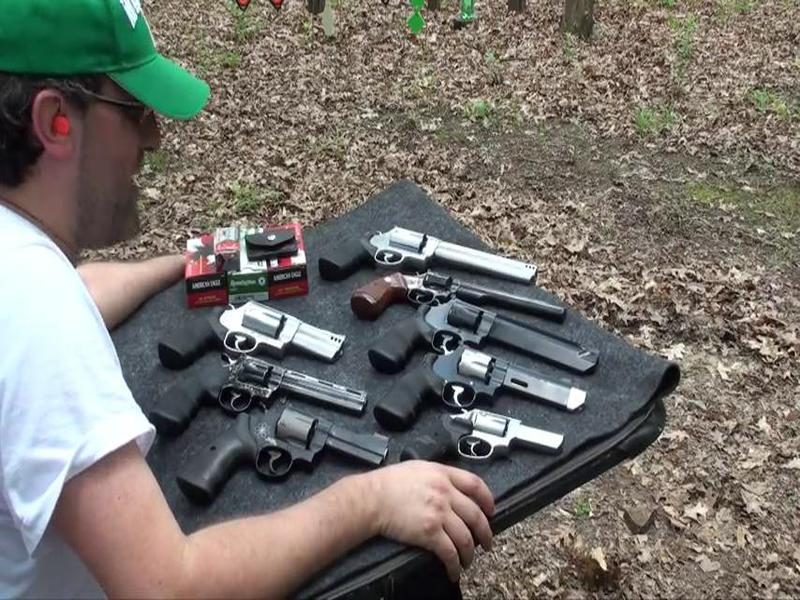Revolver: (161, 348, 368, 431)
